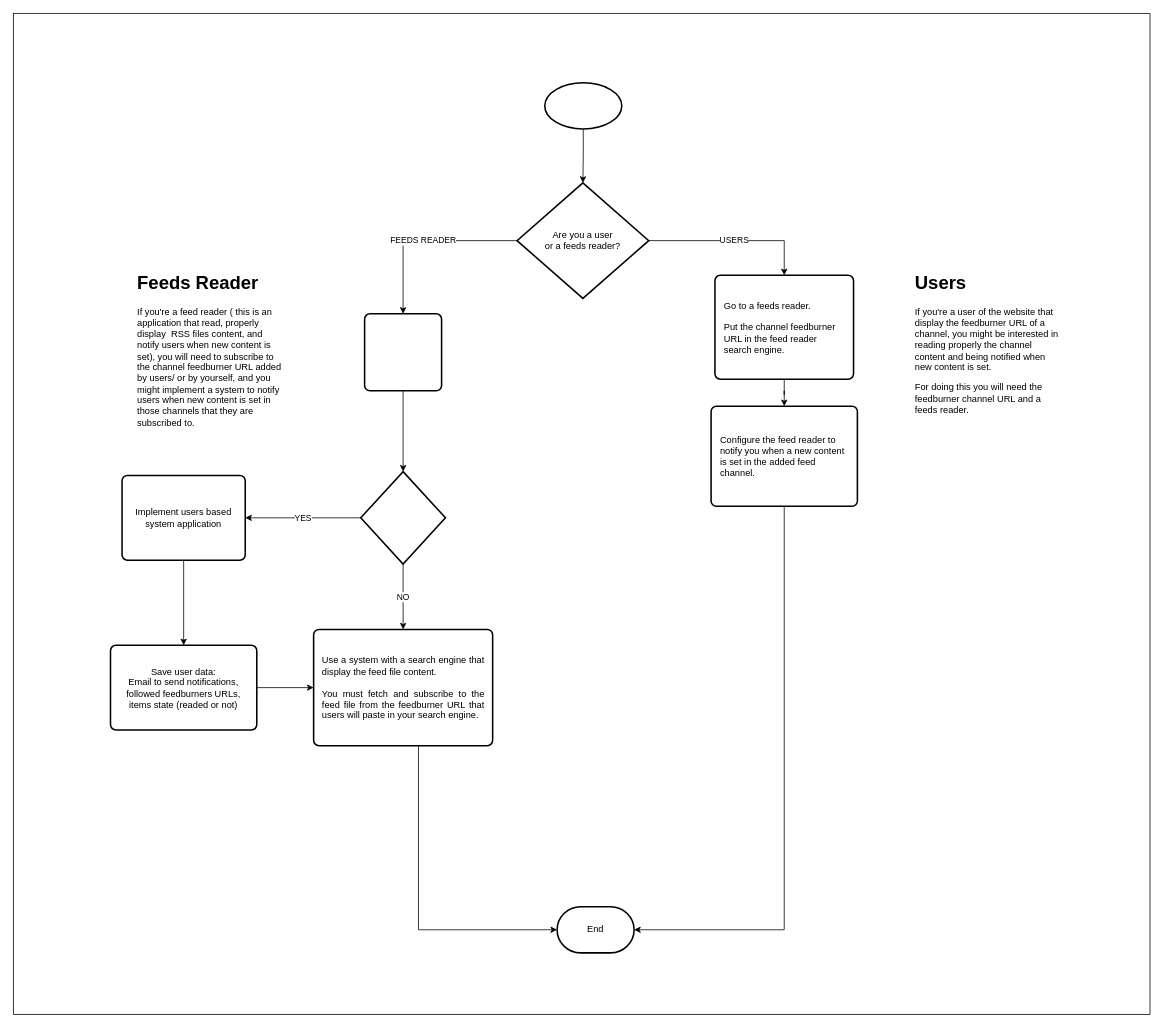
Image size: 1163x1028. Some labels were removed from this diagram. The shapes that lost their labels are listed below. From the top down, each one's centre as x and y in pixels, then its label:
At [583,105]: "Start".
At [402,352]: "Use the PubSubHubbub protocol".
At [403,517]: "Want to notify users?".
